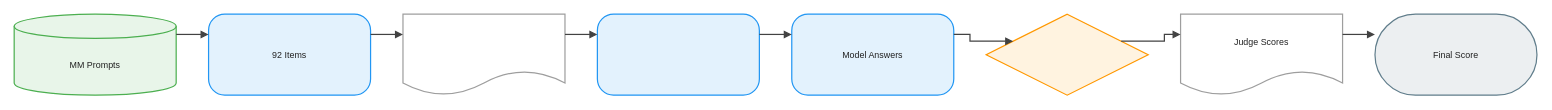
This 1552x110 diagram has some shape labels left out. Here are the shapes that lost their labels. From the top down, the centre of each, then its label:
At pixel 483 54: "Turns".
At pixel 678 54: "References".
At pixel 1066 54: "GPT-4o Judge".
